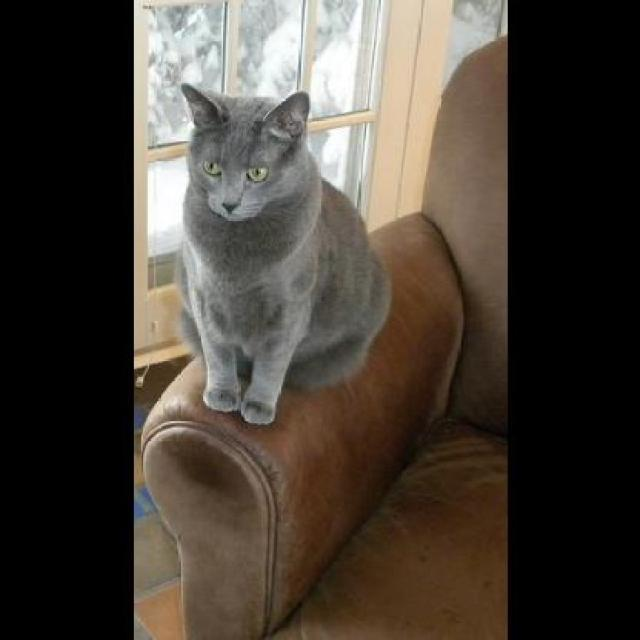unauthorized: (171, 82, 392, 426)
